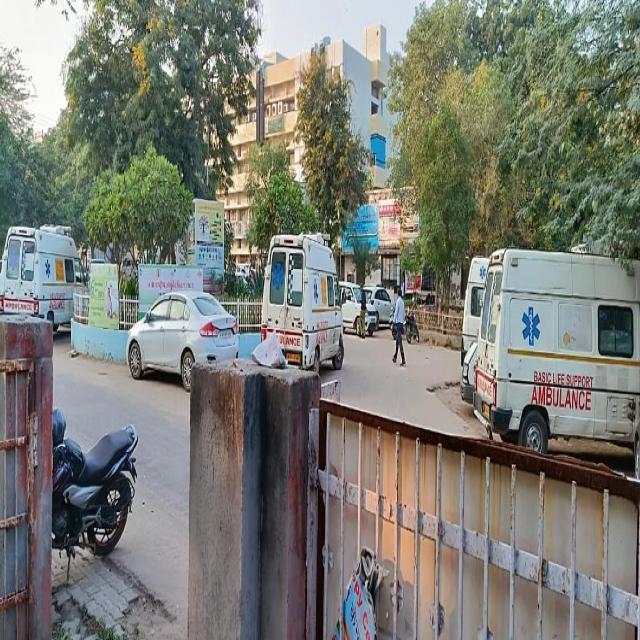car: (126, 289, 240, 389), (365, 284, 392, 327), (341, 281, 360, 332), (365, 311, 376, 335)
emergency: (474, 247, 640, 456), (261, 234, 344, 370), (0, 225, 85, 328), (461, 256, 489, 363)
motorcycle: (51, 411, 139, 556), (405, 311, 420, 343)
